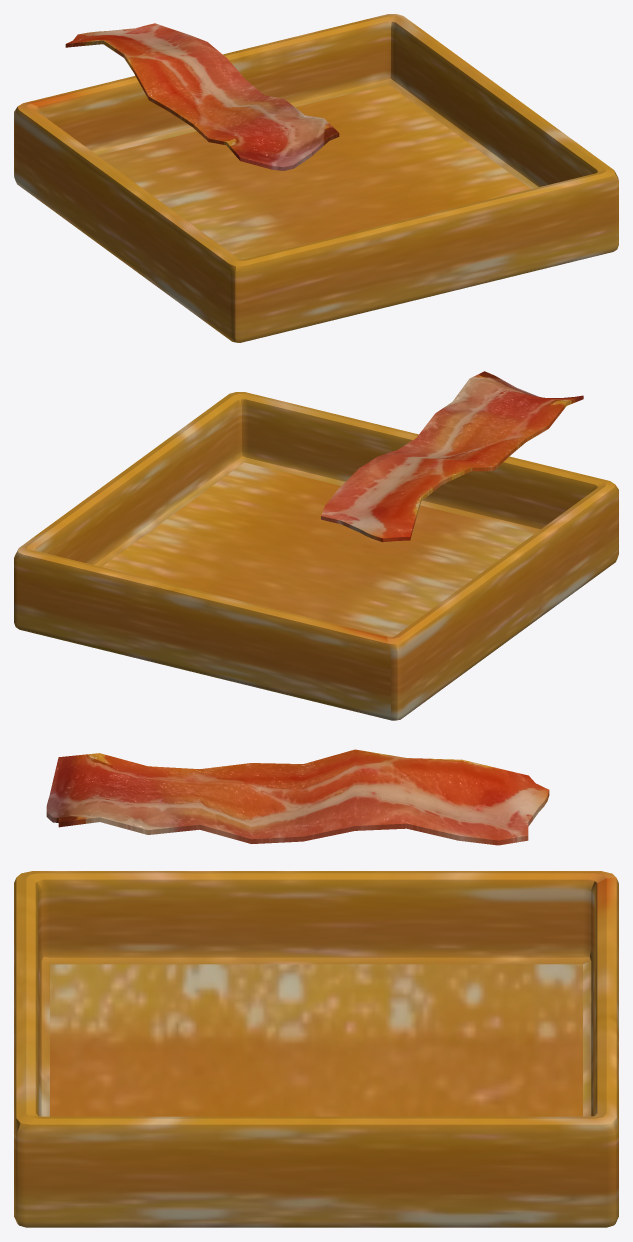
Rendered from syabuniku.fbx.
3 views of the same model, one above another, from view 1: azimuth 30°, elevation 25°; view 2: azimuth 150°, elevation 25°; view 3: azimuth 270°, elevation 25° (orthographic). The views are drawn at different scales.
Parts seen in each view (by area): view 1: pCube1, pPlane1; view 2: pCube1, pPlane1; view 3: pCube1, pPlane1.
Boxes of the visible parts, <box> form: pCube1: <box>14,14,618,342</box>; pPlane1: <box>65,23,339,170</box>; pCube1: <box>14,392,618,720</box>; pPlane1: <box>321,371,583,542</box>; pCube1: <box>14,871,618,1227</box>; pPlane1: <box>46,749,549,845</box>.
Bounding box in the file's own units: 3.64 × 1.64 × 3.64.
